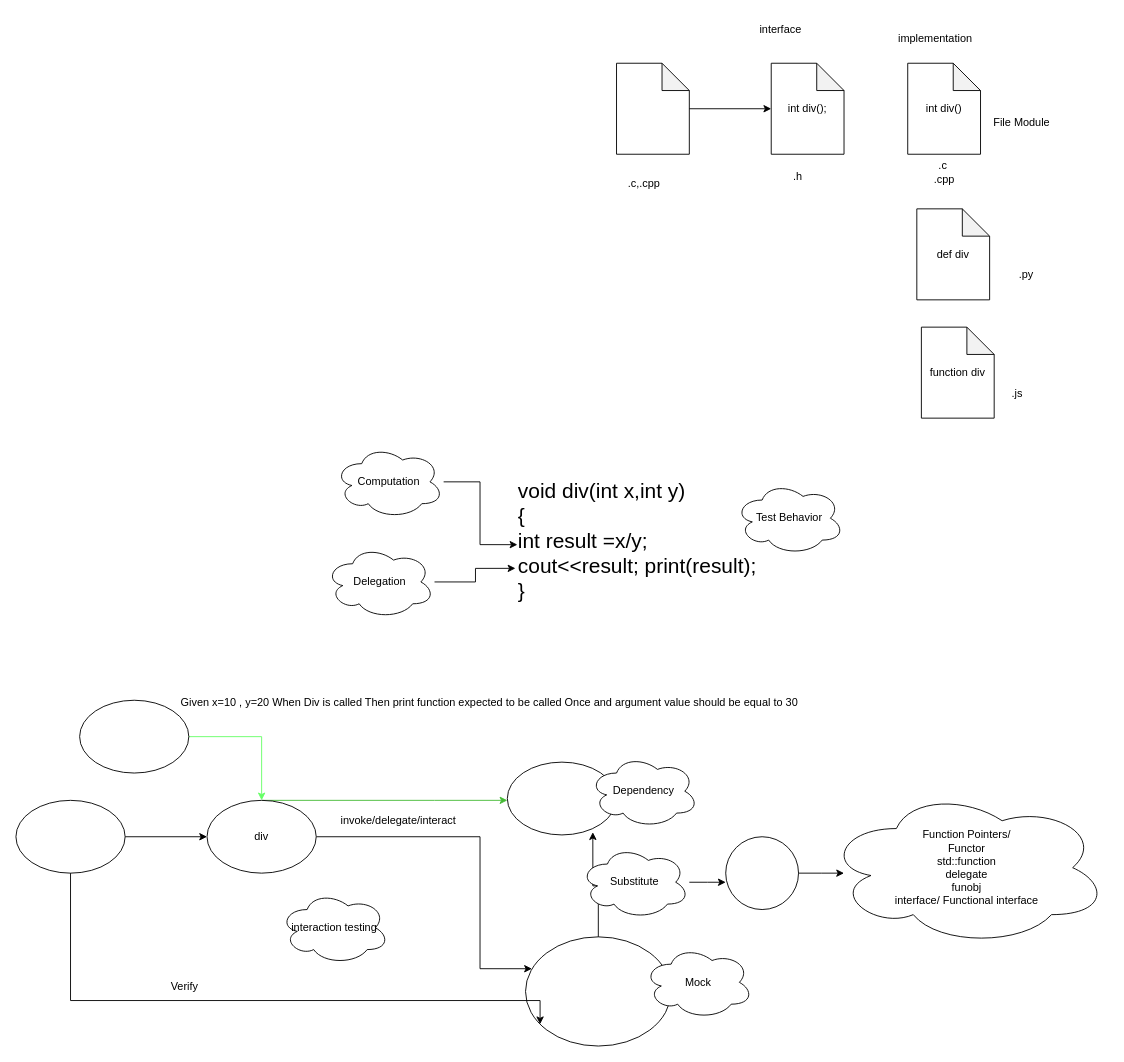
Some shapes in this 1124 by 1062 pixel diagram are drawn without their labels. Each missing label, with the centre of its shape:
"Abstraction" goes at pixel 762 873.
"Fake Function Record interaction callcount Arguments Generate Fake result" goes at pixel 598 991.
"print/printf" goes at pixel 561 798.
"Production Env" goes at pixel 134 736.
"TestCase" goes at pixel 70 836.
"testcode" goes at pixel 652 108.
